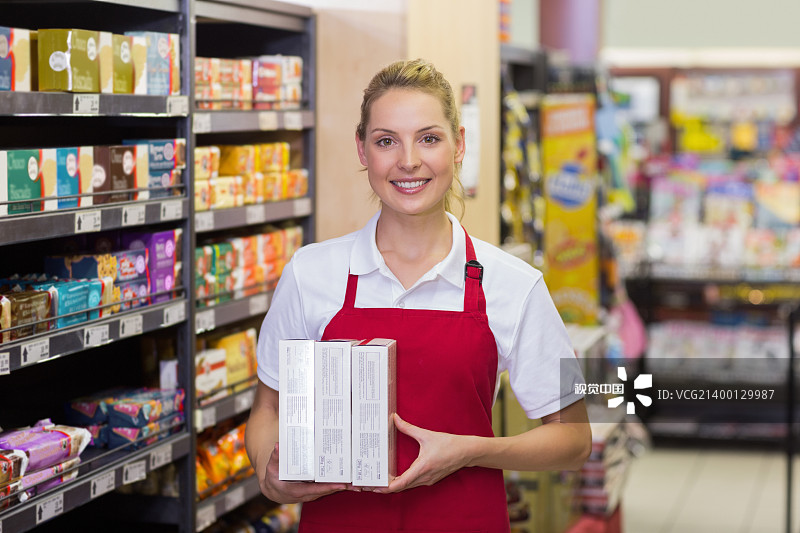no-phone: (365, 407, 480, 504), (255, 438, 354, 508)
